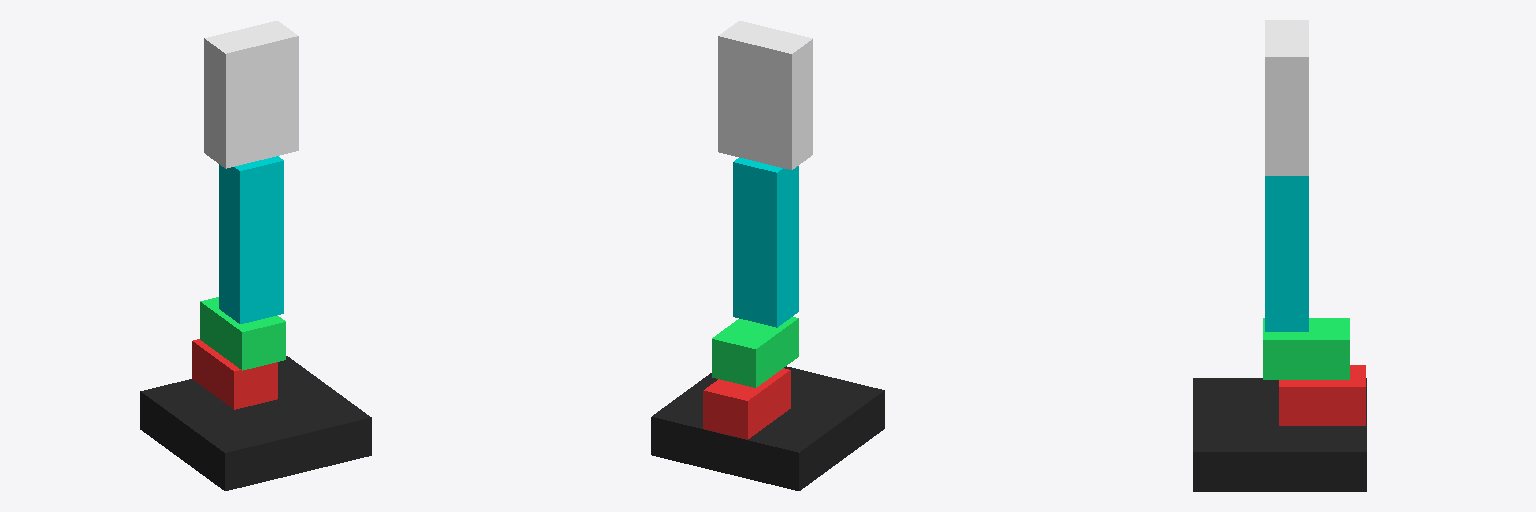
The robot description file, URDF, robot "iCookHand":
?<?xml version="1.0" encoding="utf-8"?>
<robot name="iCookHand">
  <material name="Black1">
    <color rgba="0.2 0.2 0.2 1" />
  </material>
  <material name="Blue1">
    <color rgba="1 0.2311 0.2311 1" />
  </material>
  <material name="Blue2">
    <color rgba="0.1651 1 0.4582 1" />
  </material>
  <material name="Cyan1">
    <color rgba="0 0.9 0.9 1" />
  </material>
  <material name="Default-Material">
    <color rgba="1 1 1 1" />
  </material>
  <link name="base_link">
    <visual>
      <geometry>
        <box size="2 2 0.5" />
      </geometry>
      <material name="Black1" />
    </visual>
    <collision>
      <geometry>
        <box size="1 1 1" />
      </geometry>
    </collision>
  </link>
  <link name="link_1">
    <inertial>
      <origin rpy="0 0 0" xyz="0 0 0" />
      <mass value="1" />
      <inertia ixx="1" ixy="0" ixz="0" iyy="1" iyz="0" izz="1" />
    </inertial>
    <visual>
      <origin xyz="0 -0.307 0" />
      <geometry>
        <box size="0.6 1 0.5" />
      </geometry>
      <material name="Blue1" />
    </visual>
  </link>
  <link name="link_2">
    <inertial>
      <origin rpy="0 0 0" xyz="0 0 0" />
      <mass value="1" />
      <inertia ixx="1" ixy="0" ixz="0" iyy="1" iyz="0" izz="1" />
    </inertial>
    <visual>
      <origin xyz="0 0 0.29" />
      <geometry>
        <box size="0.6 1 0.5" />
      </geometry>
      <material name="Blue2" />
    </visual>
  </link>
  <link name="link_3">
    <inertial>
      <origin rpy="0 0 0" xyz="0 0 0" />
      <mass value="1" />
      <inertia ixx="1" ixy="0" ixz="0" iyy="1" iyz="0" izz="1" />
    </inertial>
    <visual>
      <origin xyz="0.5 -0.157 1.261" />
      <geometry>
        <box size="0.6 0.5 2" />
      </geometry>
      <material name="Cyan1" />
    </visual>
  </link>
  <link name="link_4">
    <inertial>
      <origin rpy="0 0 0" xyz="0 0 0" />
      <mass value="1" />
      <inertia ixx="1" ixy="0" ixz="0" iyy="1" iyz="0" izz="1" />
    </inertial>
    <visual>
      <origin xyz="0.5 -0.157 1.05" />
      <geometry>
        <box size="1 0.5 1.5" />
      </geometry>
      <material name="Default-Material" />
    </visual>
  </link>
  <joint name="base_link_link_1_joint" type="fixed">
    <origin xyz="0 0.8 0.5" />
    <parent link="base_link" />
    <child link="link_1" />
  </joint>
  <joint name="link_1_link_2_joint" type="revolute">
    <origin xyz="0 -0.5 0.3" />
    <parent link="link_1" />
    <child link="link_2" />
    <axis xyz="0 0 1" />
    <dynamics friction="20000" />
    <limit lower="-1.570796" upper="1.570796" effort="1000" velocity="1000" />
  </joint>
  <joint name="link_2_link_3_joint" type="revolute">
    <origin xyz="-0.515 -0.064 0.373" />
    <parent link="link_2" />
    <child link="link_3" />
    <axis xyz="-1 0 0" />
    <dynamics friction="20000" />
    <limit lower="-1.570796" upper="1.570796" effort="1000" velocity="1000" />
  </joint>
  <joint name="link_3_link_4_joint" type="revolute">
    <origin xyz="0 0 2.04" />
    <parent link="link_3" />
    <child link="link_4" />
    <axis xyz="1 0 0" />
    <dynamics friction="20000" />
    <limit lower="-1.570796" upper="1.570796" effort="1000" velocity="1000" />
  </joint>
</robot>

--- What the picture shows (computed from the rendered views, not written in the file) ---
The picture shows the robot from 3 angles, left to right: view 1: azimuth 30°, elevation 25°; view 2: azimuth 150°, elevation 25°; view 3: azimuth 270°, elevation 25°; orthographic projection.
Model iCookHand with 5 links and 4 joints (3 revolute, 1 fixed), rooted at base_link, posed every joint at zero.
Links seen in each view (by area): view 1: base_link, link_4, link_3, link_2, link_1; view 2: base_link, link_4, link_3, link_2, link_1; view 3: base_link, link_3, link_4, link_2, link_1.
Boxes of the visible links, x1,y1,x2,y2 form: base_link: (140, 356, 371, 490); link_4: (204, 21, 298, 168); link_3: (219, 156, 283, 323); link_2: (200, 297, 285, 370); link_1: (192, 339, 277, 409); base_link: (651, 366, 884, 490); link_4: (718, 21, 812, 169); link_3: (733, 158, 798, 327); link_2: (712, 317, 798, 387); link_1: (703, 368, 790, 439); base_link: (1193, 378, 1366, 491); link_3: (1265, 176, 1308, 331); link_4: (1265, 20, 1308, 175); link_2: (1263, 318, 1349, 379); link_1: (1279, 365, 1365, 425).
Size in the robot's own frame: 2 by 2 by 5.26 metres.
Geometry: primitives only (box / cylinder / sphere), no mesh files.